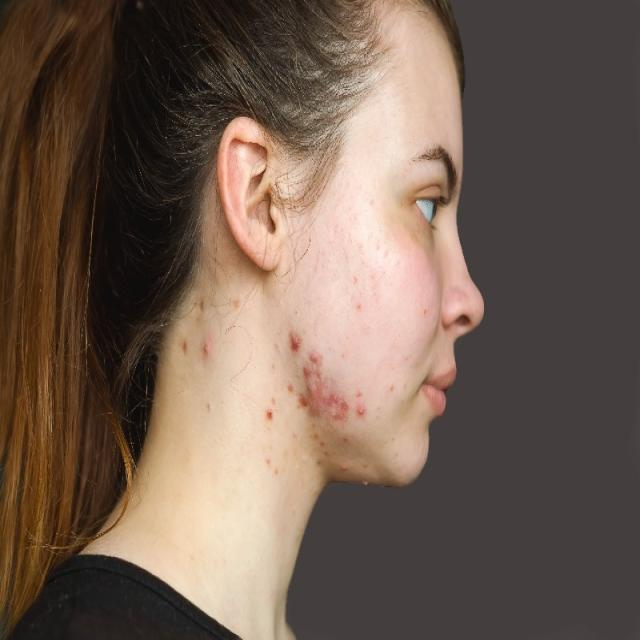Acne: (275, 301, 372, 443)
